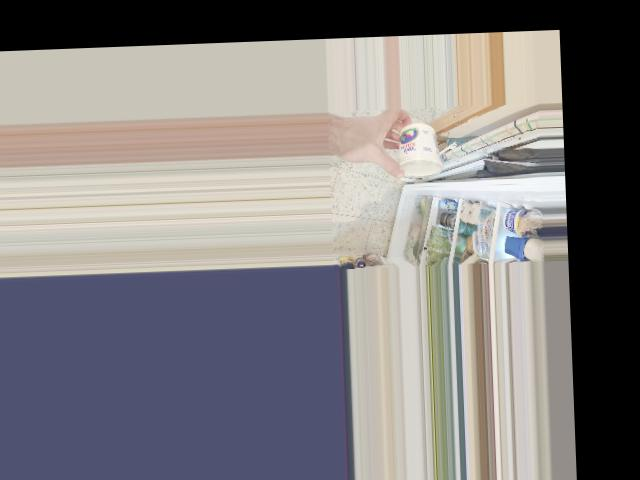cotage: (396, 122, 440, 183)
